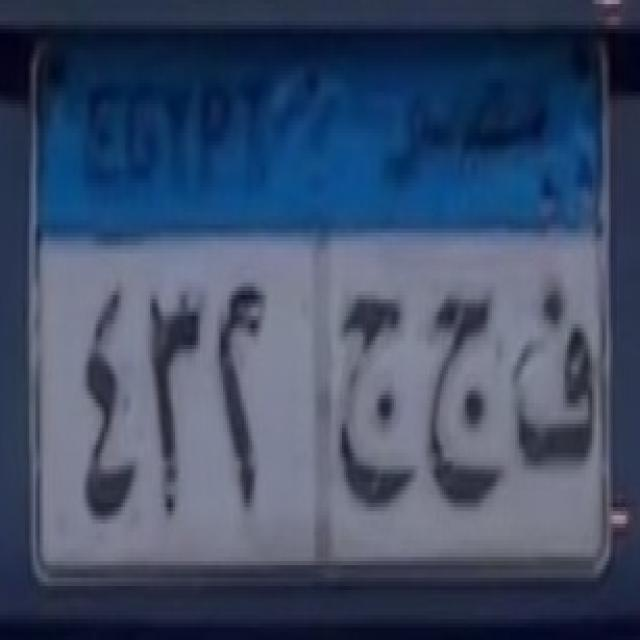2: (209, 275, 285, 515)
3: (145, 275, 210, 519)
4: (73, 282, 145, 527)
F: (508, 266, 598, 506)
geem: (325, 283, 417, 513), (420, 292, 506, 514)
